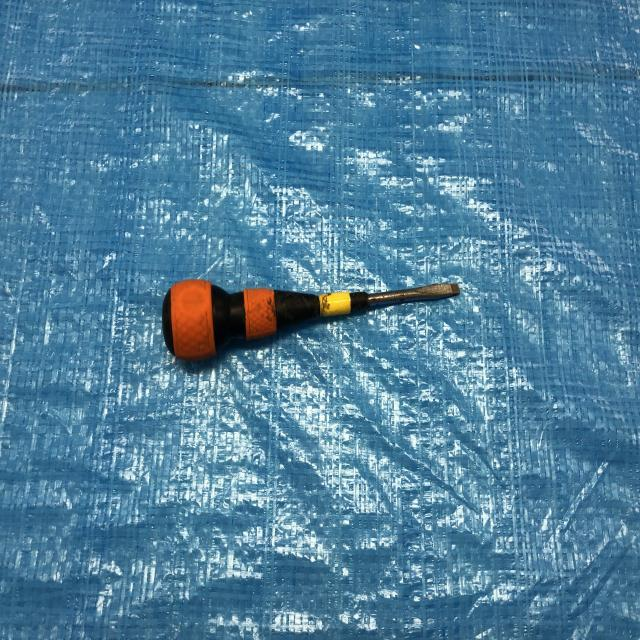screwdriver: (160, 277, 461, 365)
